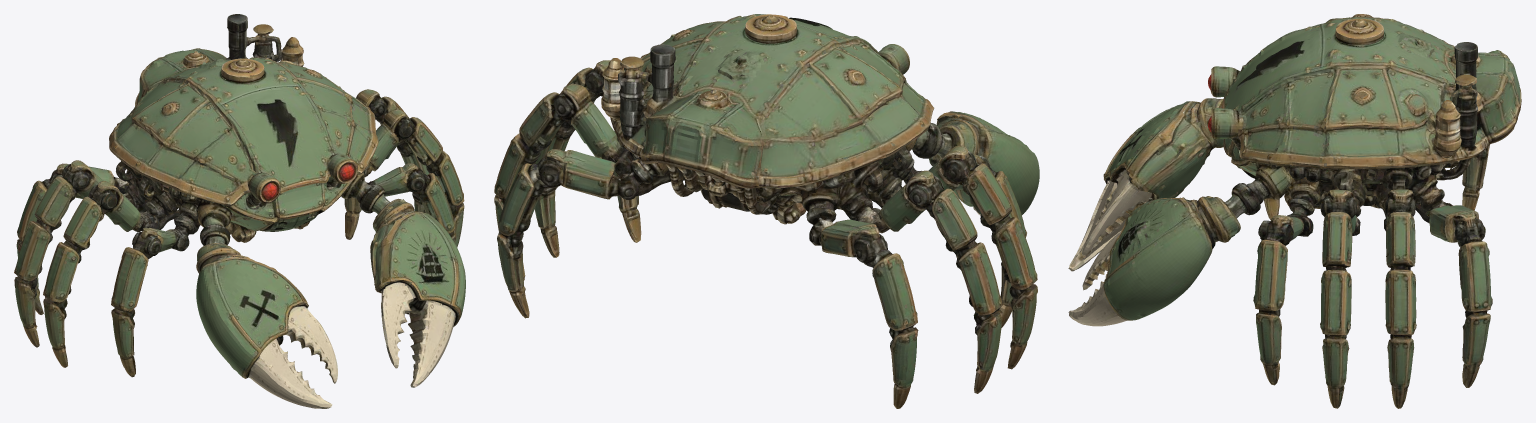
The model's file is secrab.glb.
3 views of the same model, side by side, from view 1: azimuth 30°, elevation 25°; view 2: azimuth 150°, elevation 25°; view 3: azimuth 270°, elevation 25° (orthographic). The views are drawn at different scales.
Visible parts, largest first — view 1: Mesh_0; view 2: Mesh_0; view 3: Mesh_0.
Boxes of the visible parts, x1,y1,x2,y2 form: Mesh_0: (14,14,465,408); Mesh_0: (494,14,1039,408); Mesh_0: (1068,14,1521,408).
Size of the model in its own units: 1.9 by 1.11 by 1.59.
Materials: 1 (1 with a texture image).
